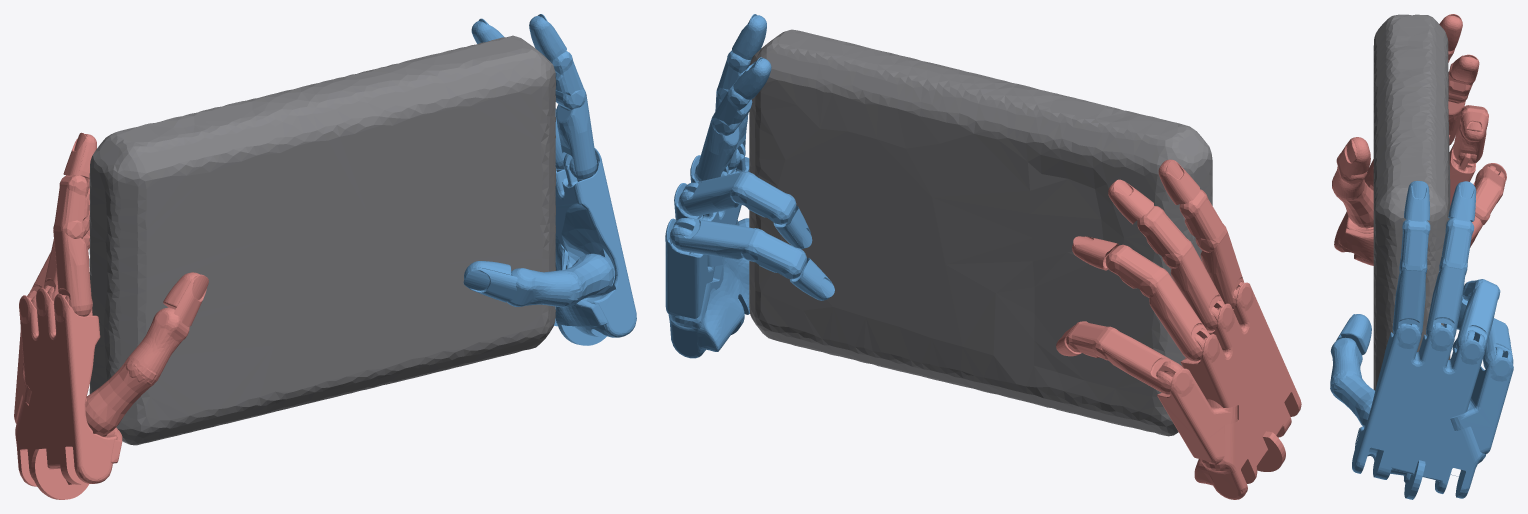
Rendered from cell_phone.glb.
3 views of the same model, side by side, from view 1: azimuth 30°, elevation 25°; view 2: azimuth 150°, elevation 25°; view 3: azimuth 270°, elevation 25° (orthographic). The views are drawn at different scales.
Parts seen in each view (by area): view 1: object_mesh, left_shadow_hand, right_shadow_hand; view 2: object_mesh, left_shadow_hand, right_shadow_hand; view 3: right_shadow_hand, object_mesh, left_shadow_hand.
Part boxes in pixels (x1,y1,x2,y2): object_mesh: (89,35,555,445); left_shadow_hand: (14,132,208,499); right_shadow_hand: (463,14,636,345); object_mesh: (749,29,1212,436); left_shadow_hand: (1056,159,1301,499); right_shadow_hand: (665,14,834,358); right_shadow_hand: (1330,180,1513,499); object_mesh: (1373,14,1450,390); left_shadow_hand: (1332,14,1506,265).
Size of the model in its own units: 0.4025 by 0.2334 by 0.1223.
